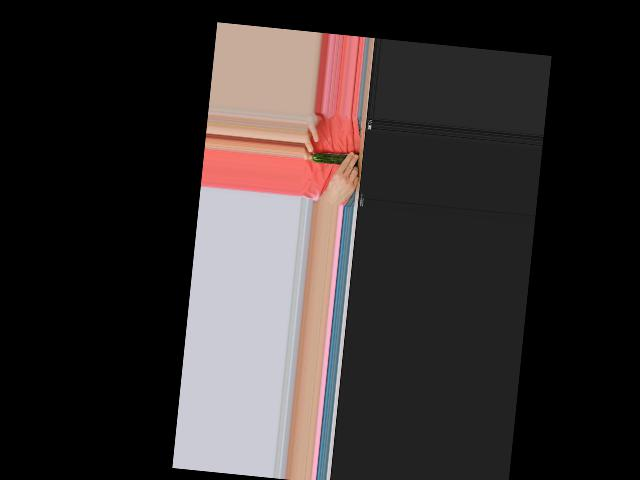cucumber: (311, 151, 348, 166)
